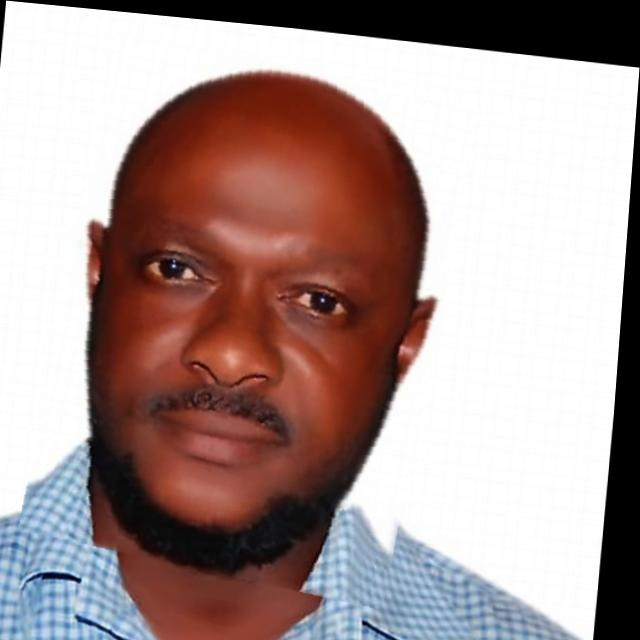happy: (37, 30, 472, 596)
